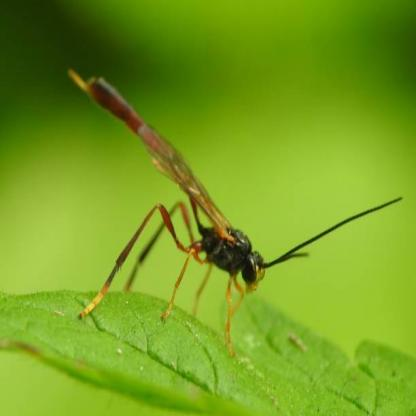sawfly: (61, 61, 408, 355)
